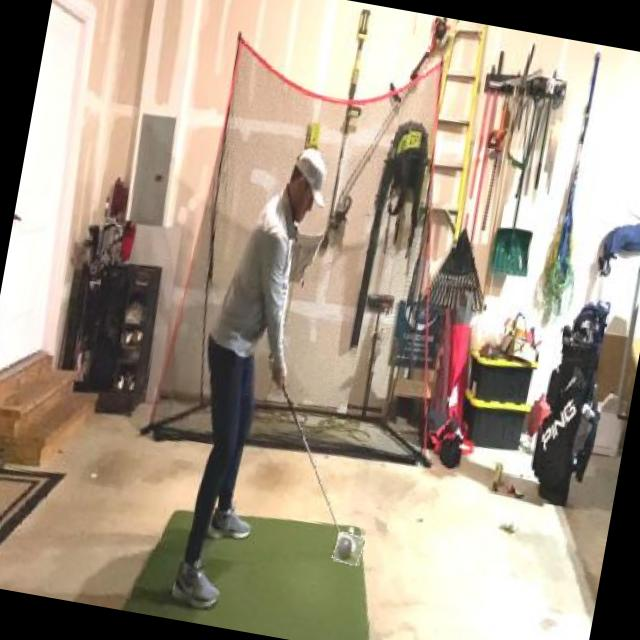club head: (332, 532, 364, 566)
